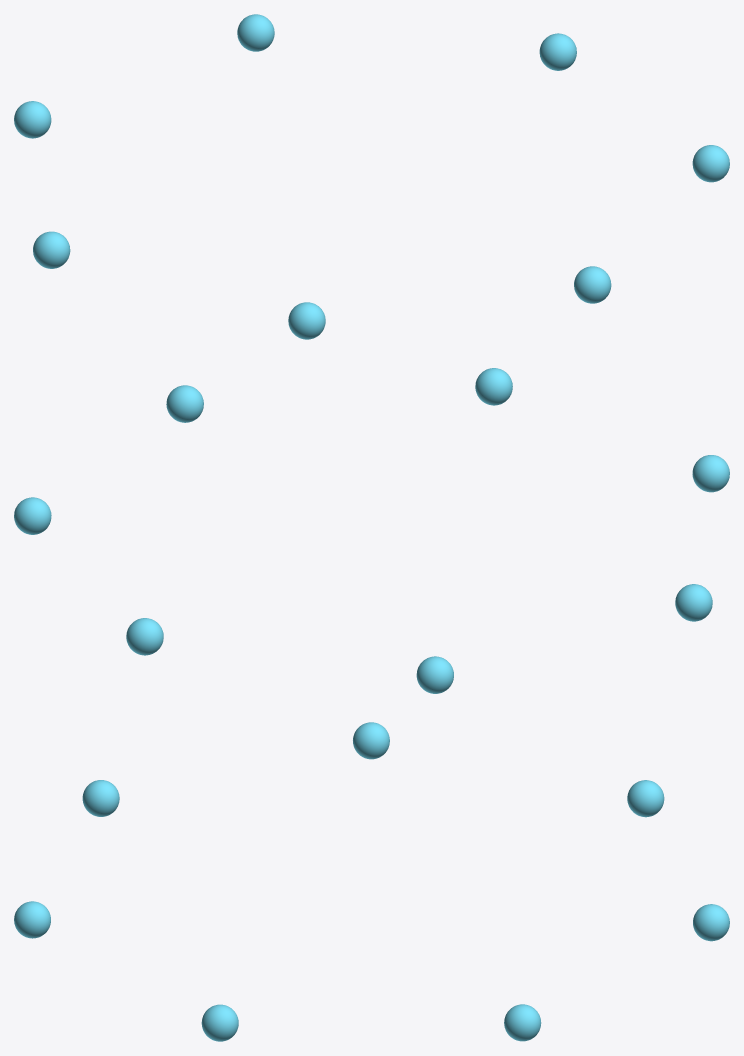
3 views of the same model, one above another, from view 1: azimuth 30°, elevation 25°; view 2: azimuth 150°, elevation 25°; view 3: azimuth 270°, elevation 25° (orthographic).
Visible parts, largest first — view 1: Sphere049; view 2: Sphere049; view 3: Sphere049.
Boxes of the visible parts, box(x1,y1,x2,y2) form: Sphere049: box(14, 14, 729, 339); Sphere049: box(14, 368, 729, 693); Sphere049: box(14, 722, 729, 1041).
Size of the model in its own units: 156 by 8.22 by 158.
